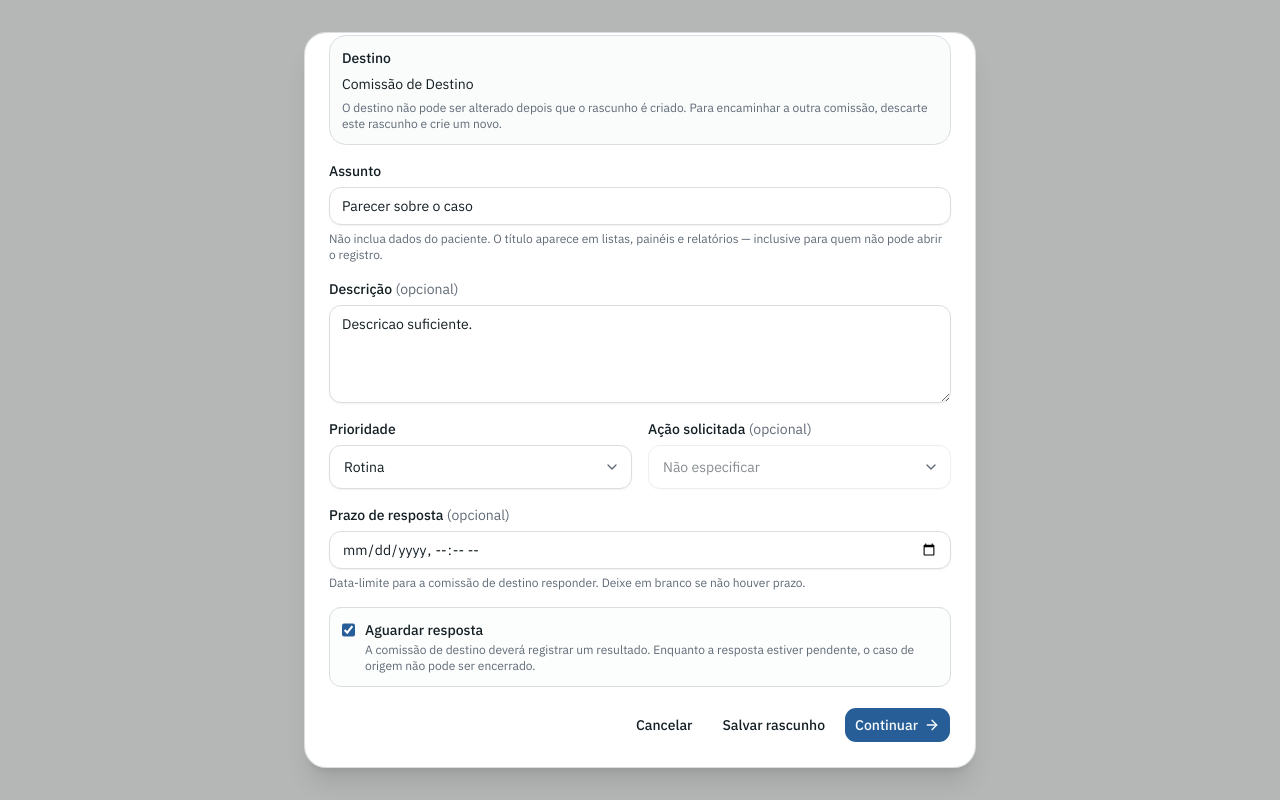
referral wizard — PHI fail-closed on a resumed draft › 2 disables the PHI inputs after a failed prefill read, so the coordinator cannot type over data they cannot see
This screenshot has width=1280, height=800.
(page scrolled)
Click the button "Continuar".
click(898, 725)  # box left=844, top=707, right=951, bottom=743
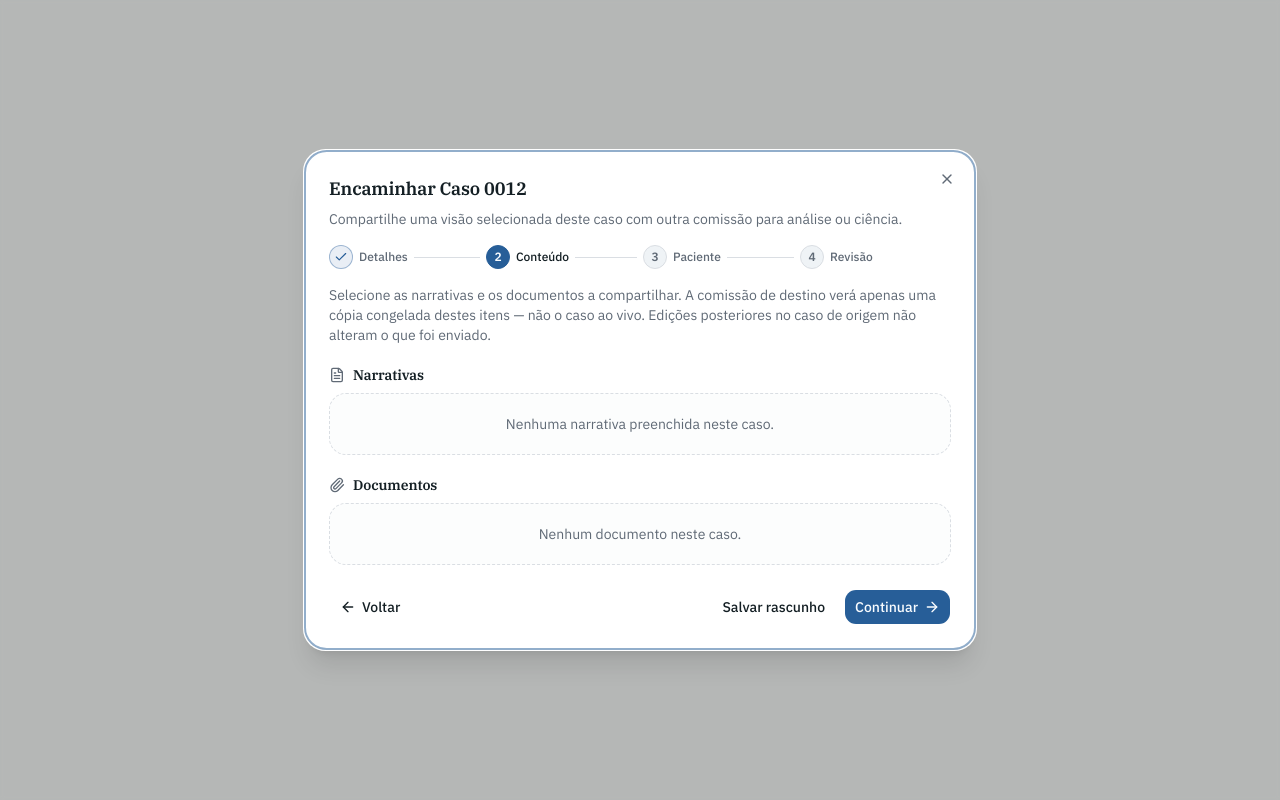
Click the button "Continuar".
click(898, 607)  # box left=844, top=589, right=951, bottom=625
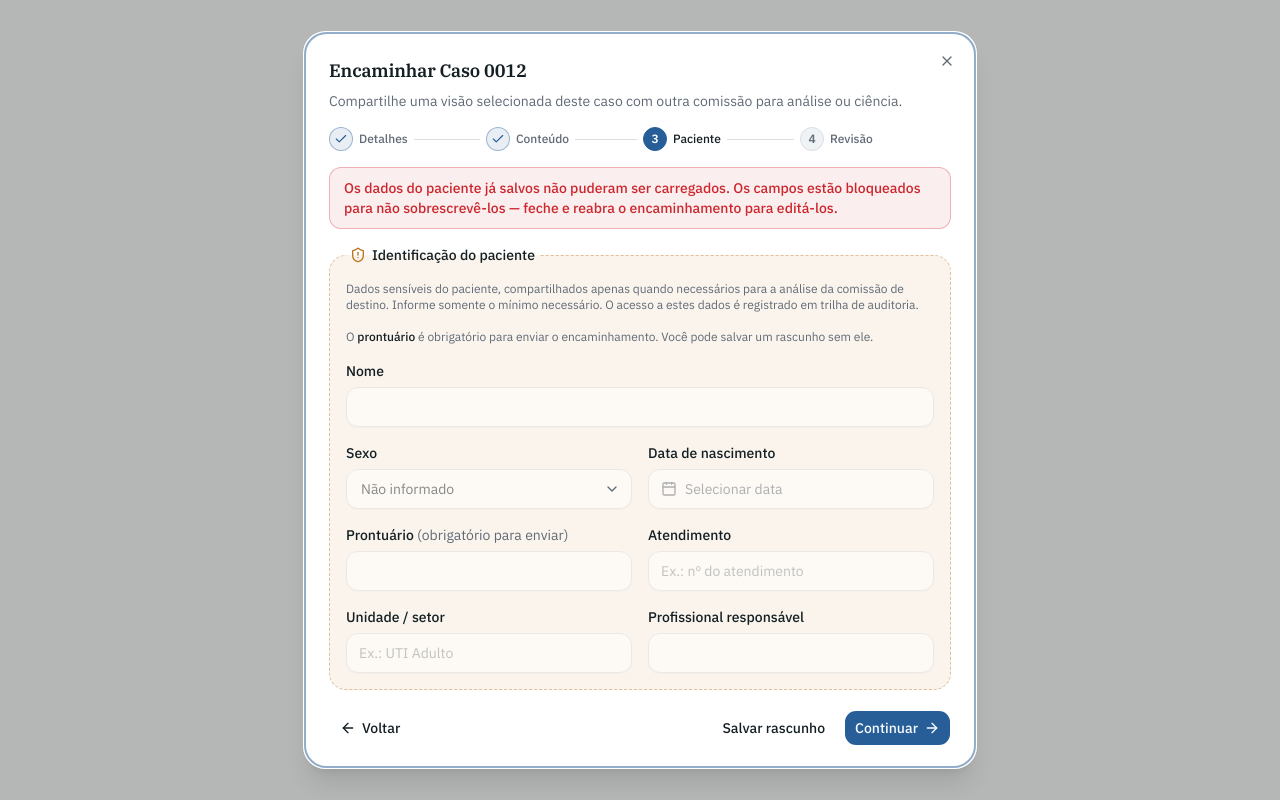
Expected: the text "Os dados do paciente já salvos não puderam ser carregados. Os campos estão bloqueados para não sobrescrevê-los — feche e" is shown, left=344, top=179, right=921, bottom=217
